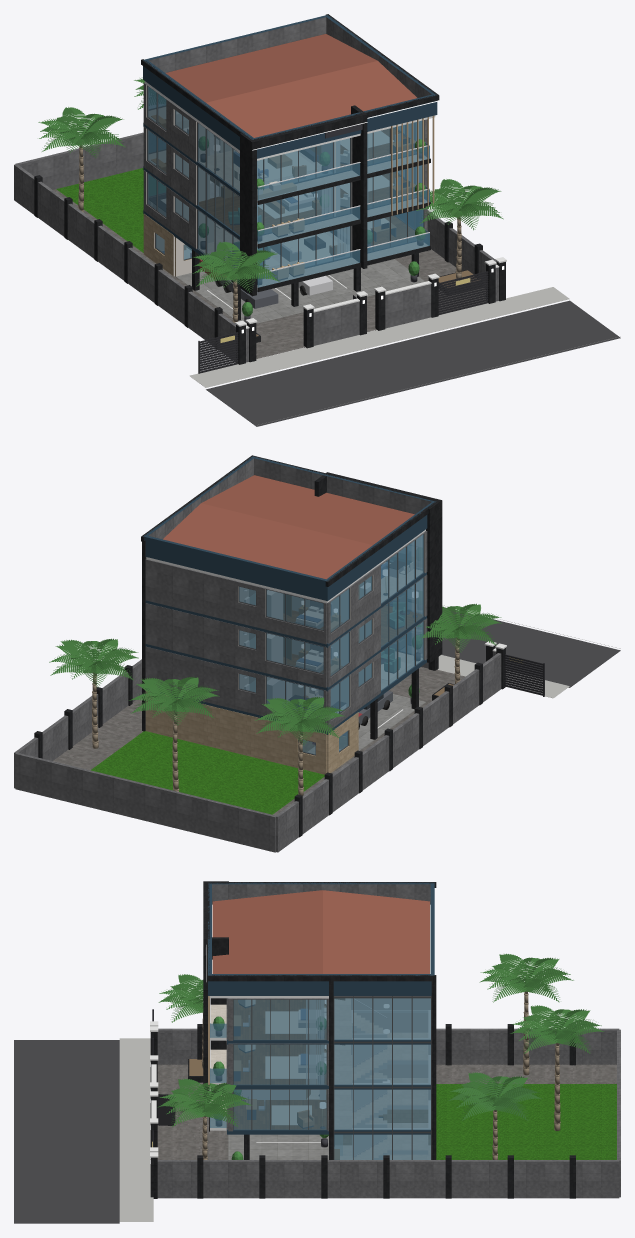
The model's file is residence-rwenzori.glb.
3 renders of one model, top to bottom at view 1: azimuth 30°, elevation 25°; view 2: azimuth 150°, elevation 25°; view 3: azimuth 270°, elevation 25°, orthographic. The views are drawn at different scales.
Visible parts, largest first — view 1: sol-rue, toiture-tole, cloture.004, toiture-tole.001, sol-trottoir, sol-parking, cloture.006, sol-jardin, acrotere.001, vitre.019, vitre.011, vitre.003 (+37 smaller); view 2: cloture.006, sol-jardin, cloture.004, toiture-tole.001, toiture-tole, sol-rue, mur-fond.003, acrotere.001, facade.068, facade.044, cloture.005, acrotere (+24 smaller); view 3: sol-rue, cloture.005, vitre.027, sol-jardin, toiture-tole, toiture-tole.001, cloture.004, sol-trottoir, vitre.018, vitre.026, vitre.010, acrotere.003 (+38 smaller).
Boxes of the visible parts, box(x1,y1,x2,y2) form: sol-rue: box(206, 300, 620, 426); toiture-tole: box(206, 61, 416, 137); cloture.004: box(14, 164, 235, 360); toiture-tole.001: box(165, 34, 377, 102); sol-trottoir: box(189, 287, 569, 387); sol-parking: box(175, 259, 425, 325); cloture.006: box(15, 132, 143, 189); sol-jardin: box(56, 168, 143, 252); acrotere.001: box(143, 15, 328, 72); vitre.019: box(257, 138, 350, 188); vitre.011: box(257, 183, 350, 233); vitre.003: box(257, 226, 350, 271); cloture.006: box(15, 753, 275, 852); sol-jardin: box(91, 731, 324, 814); cloture.004: box(275, 653, 501, 852); toiture-tole.001: box(163, 503, 372, 579); toiture-tole: box(201, 475, 414, 544); sol-rue: box(441, 607, 620, 687); mur-fond.003: box(145, 691, 298, 767); acrotere.001: box(143, 535, 329, 600); facade.068: box(145, 559, 238, 622); facade.044: box(145, 603, 238, 666); cloture.005: box(14, 659, 141, 788); acrotere: box(251, 456, 436, 514); sol-rue: box(14, 1040, 119, 1223); cloture.005: box(157, 1160, 619, 1198); vitre.027: box(334, 998, 430, 1159); sol-jardin: box(436, 1084, 616, 1159); toiture-tole: box(212, 890, 322, 973); toiture-tole.001: box(323, 890, 429, 973); cloture.004: box(157, 1028, 619, 1064); sol-trottoir: box(119, 1038, 153, 1221); vitre.018: box(233, 1044, 326, 1084); vitre.026: box(233, 999, 326, 1039); vitre.010: box(233, 1089, 326, 1129); acrotere.003: box(208, 974, 433, 995).
Bounding box in the file's own units: 28 × 14.42 × 39.1.
Materials: 58 (9 with a texture image).
